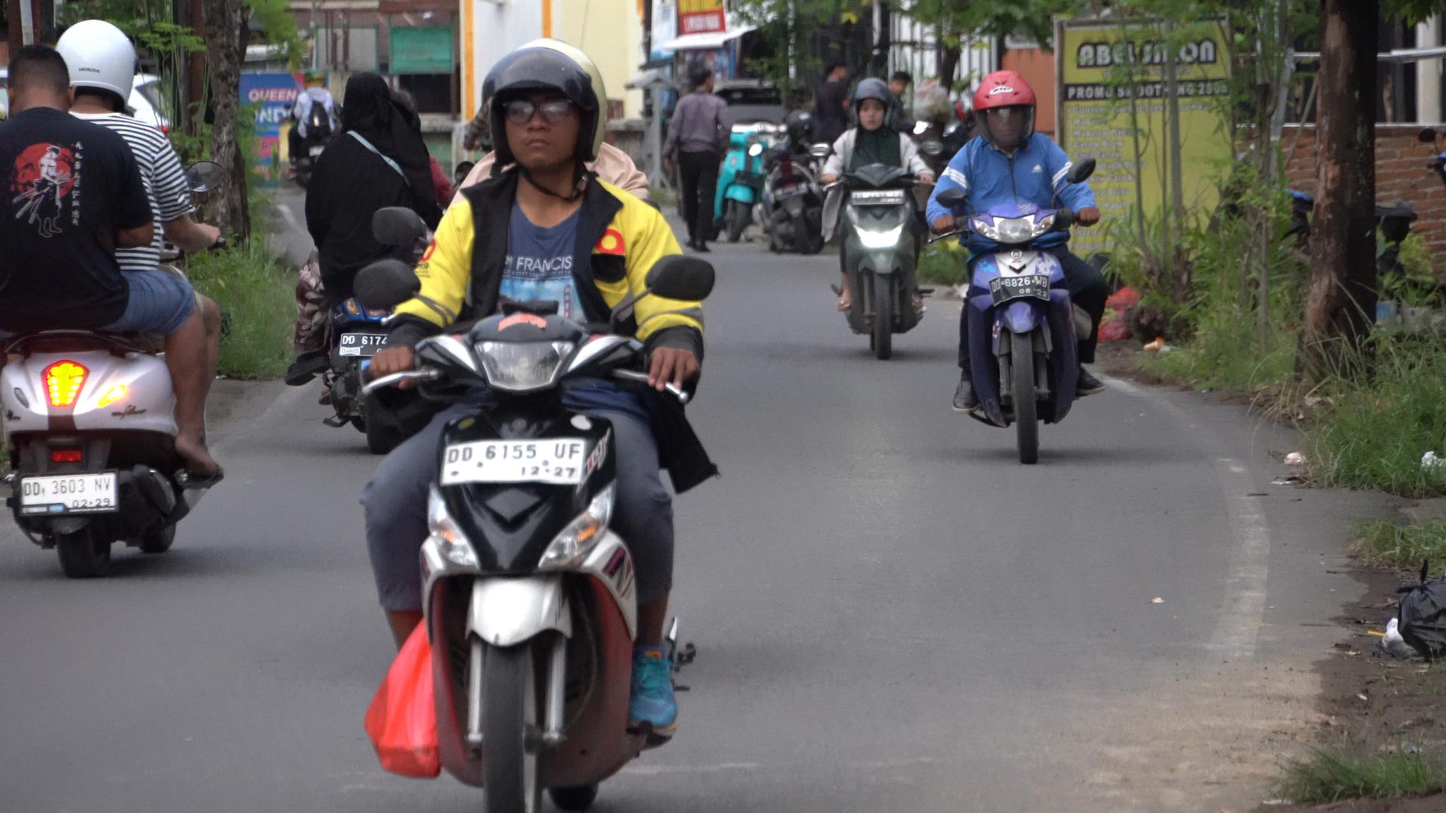number-plate: (428, 440, 587, 483)
